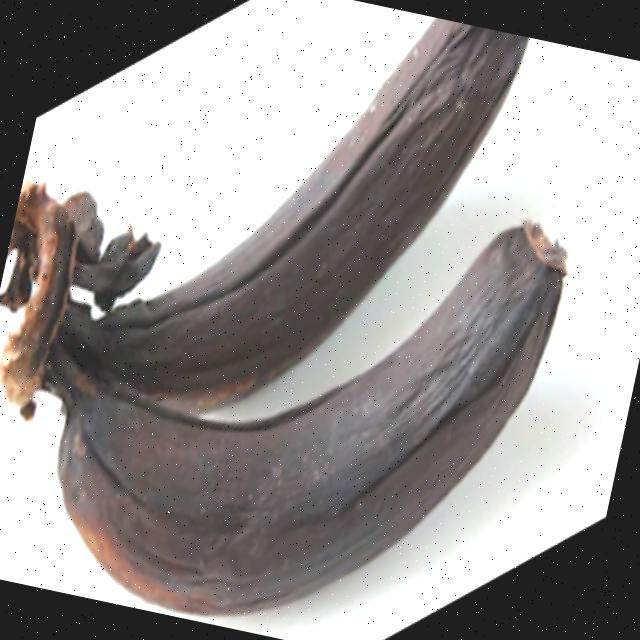Rotten: (0, 111, 589, 640), (0, 0, 537, 487)
